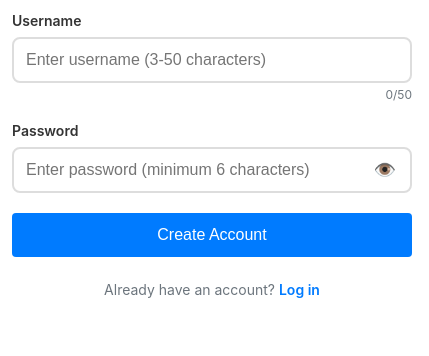
Scenario: RegistrationForm › Username Input - Validation › shows required error when username is empty and field is blurred
The width and height of the screenshot is (429, 356).
Click the field labelled "Username": x=212, y=60 12,37 -> 412,83
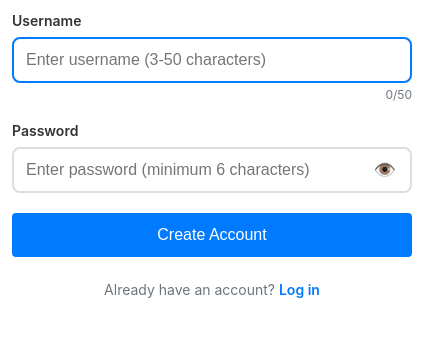
Press Tab
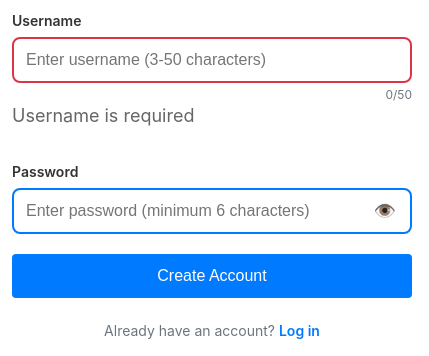
Expected: the text "Username is required" is shown, 12,105 -> 194,126
